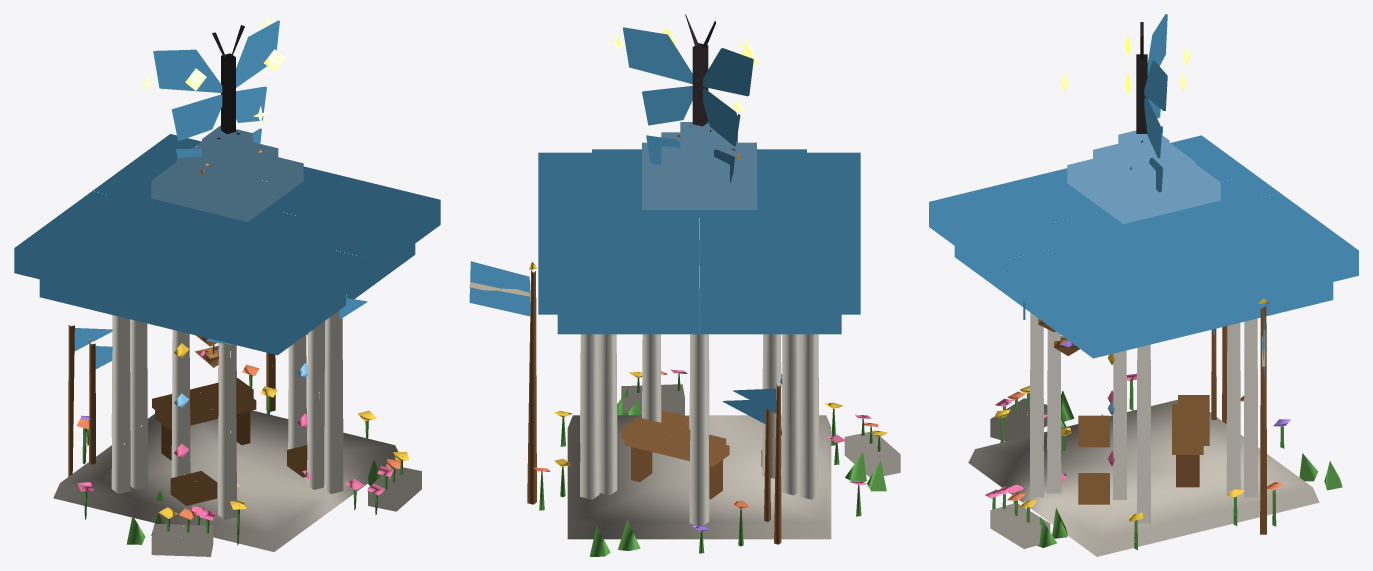
The model's file is butterfly-garden-pavilion-blocky_lod1.glb.
3 renders of one model, left to right at view 1: azimuth 30°, elevation 25°; view 2: azimuth 150°, elevation 25°; view 3: azimuth 270°, elevation 25°, orthographic. The views are drawn at different scales.
Visible parts, largest first — view 1: lv3, lv2, lv1; view 2: lv3, lv2, lv1; view 3: lv3, lv2, lv1.
Boxes of the visible parts, box(x1,y1,x2,y2) form: lv3: box(14, 14, 440, 556); lv2: box(39, 128, 415, 535); lv1: box(155, 330, 311, 505); lv3: box(469, 14, 900, 556); lv2: box(555, 125, 866, 550); lv1: box(624, 334, 782, 499); lv3: box(929, 14, 1358, 556); lv2: box(954, 126, 1333, 538); lv1: box(1061, 350, 1203, 504).
Bounding box in the file's own units: 2.16 × 2.53 × 2.16.
